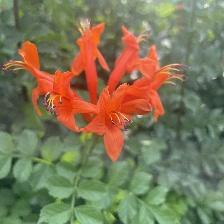honeysuckle: (88, 83, 138, 165), (133, 46, 187, 114), (47, 72, 98, 132), (67, 24, 105, 103), (13, 43, 52, 104), (110, 26, 144, 89)
